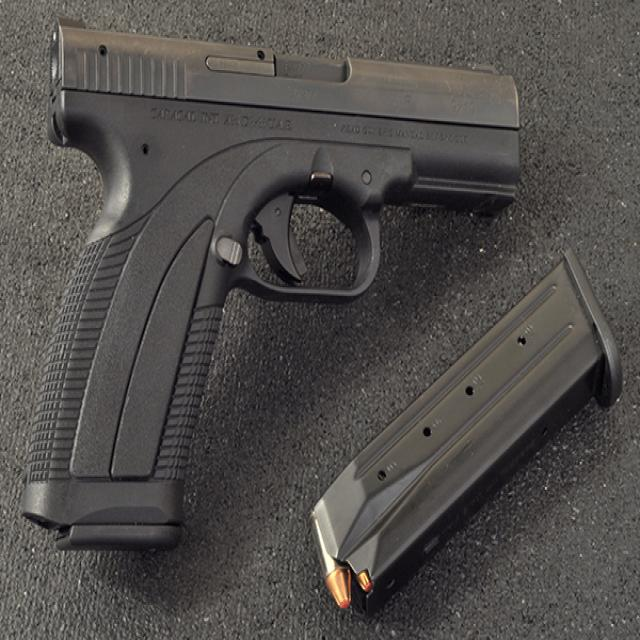Gun: (28, 22, 530, 554)
